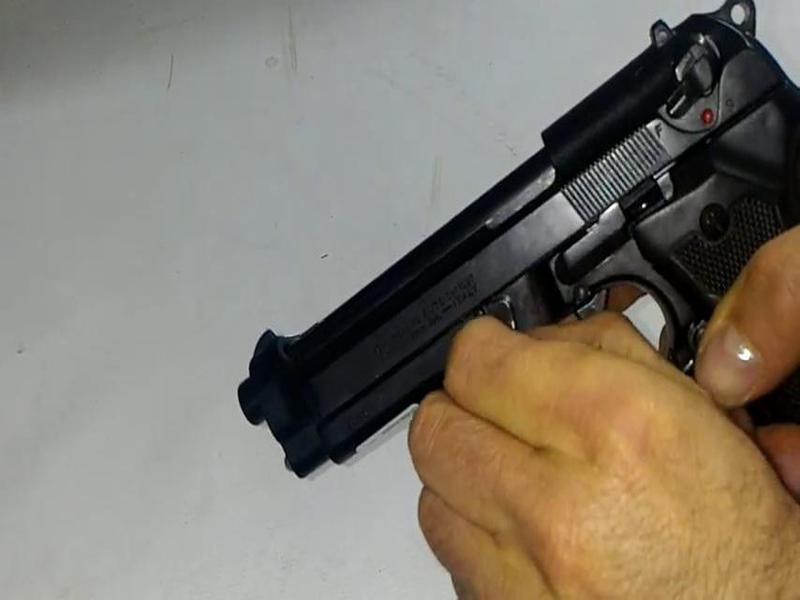Pistola: (173, 20, 800, 446)
